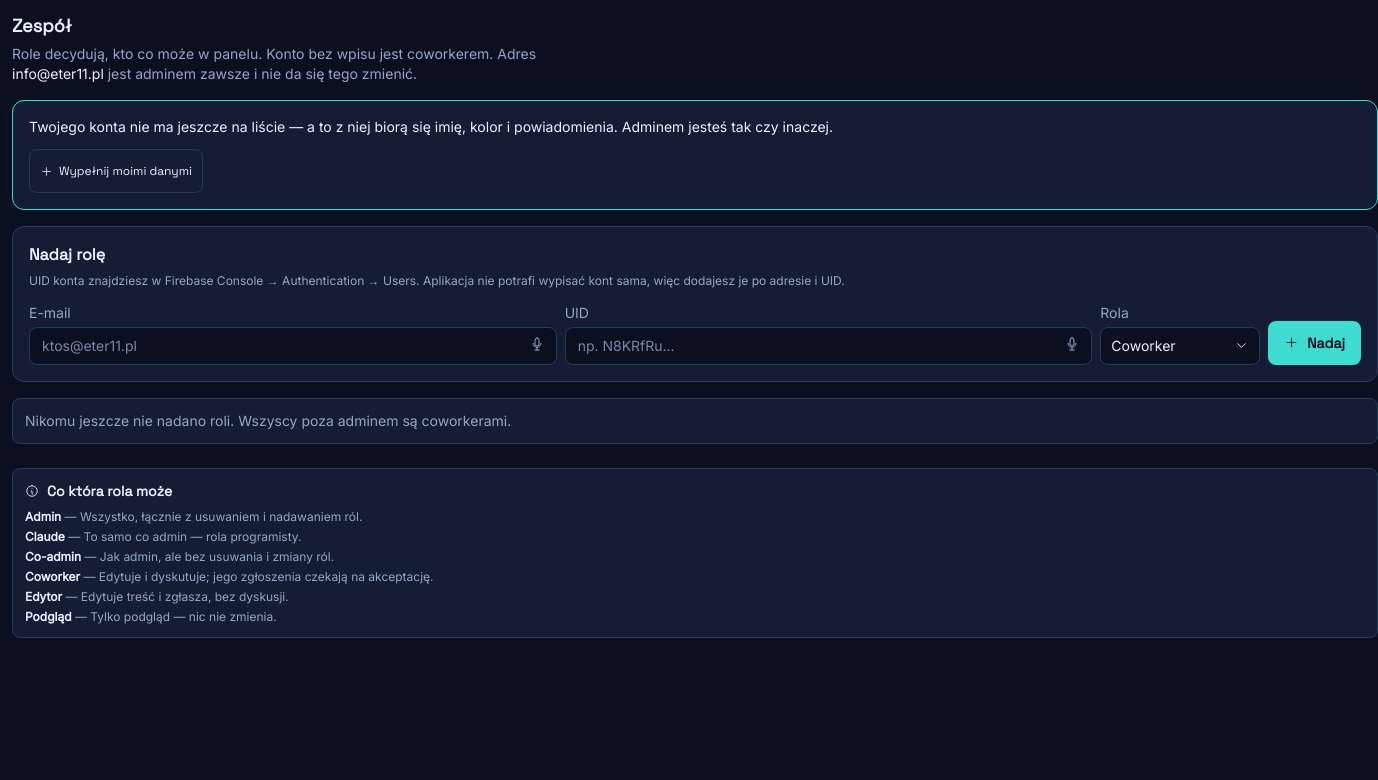
Test: TeamPanel — ochrona przed samo-wylogowaniem › nadanie roli innemu kontu nadal działa
Type "nowy@eter11.pl" into the field labelled "E-mail".
click(293, 346); type("nowy@eter11.pl")  # box [29,326,557,364]
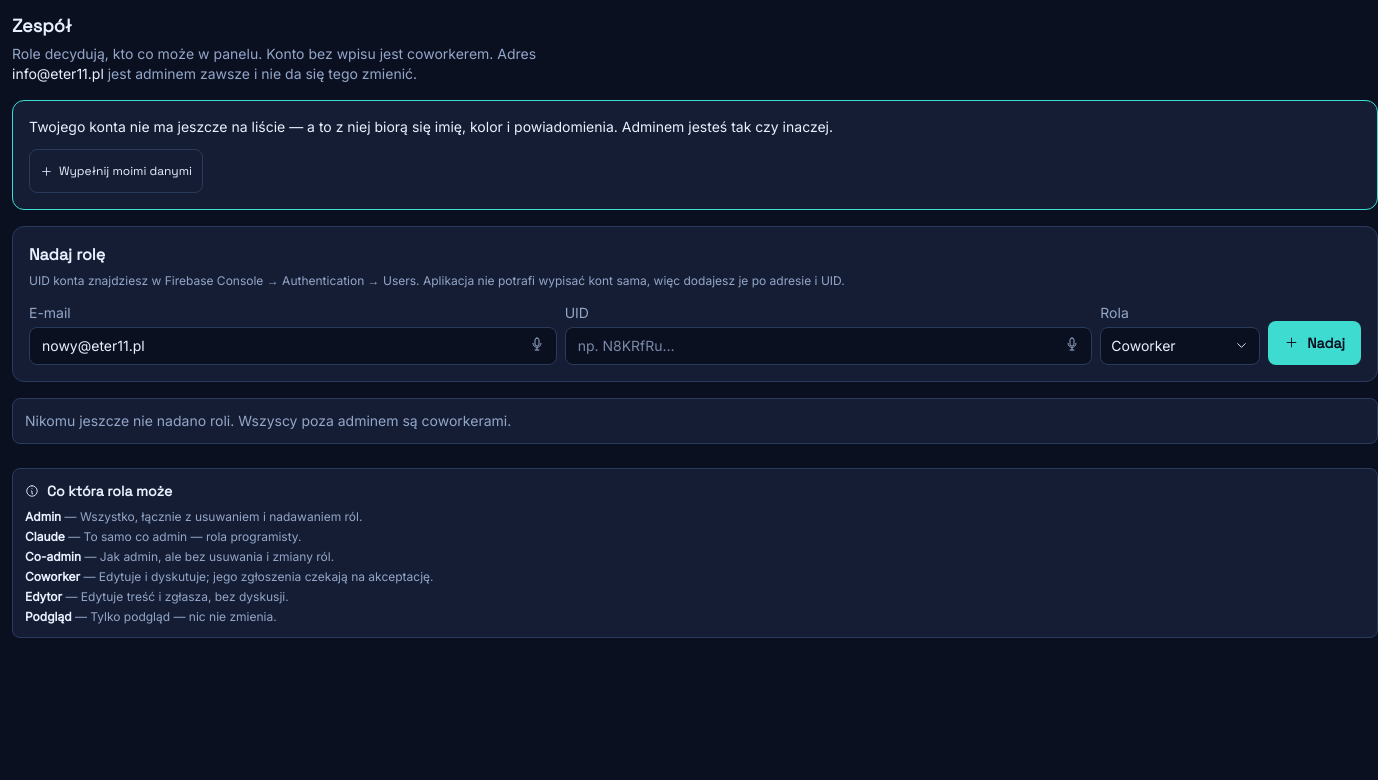
Type "nowy-uid" into the field labelled "UID".
click(829, 346); type("nowy-uid")  # box [565,326,1092,364]
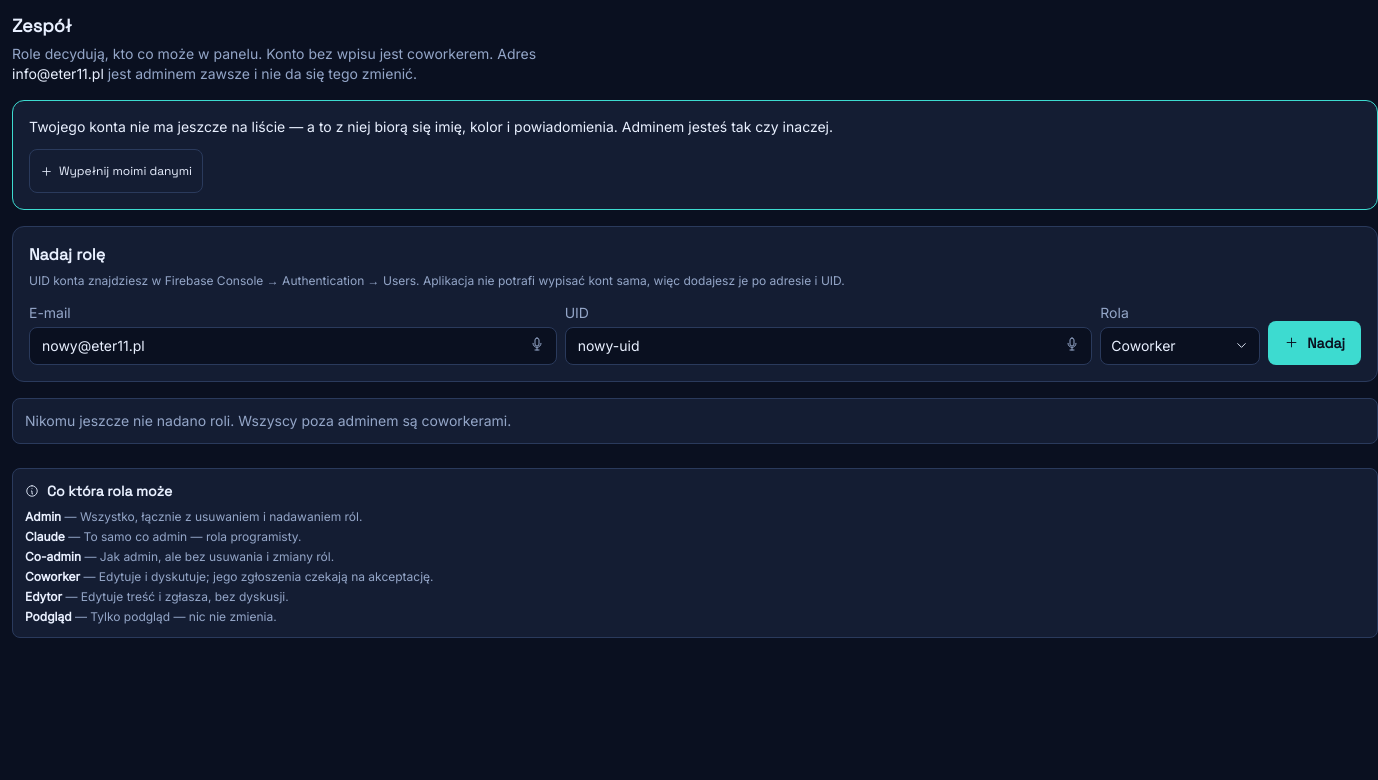
Click the button "Nadaj".
click(1315, 342)  # box [1268,320,1361,364]
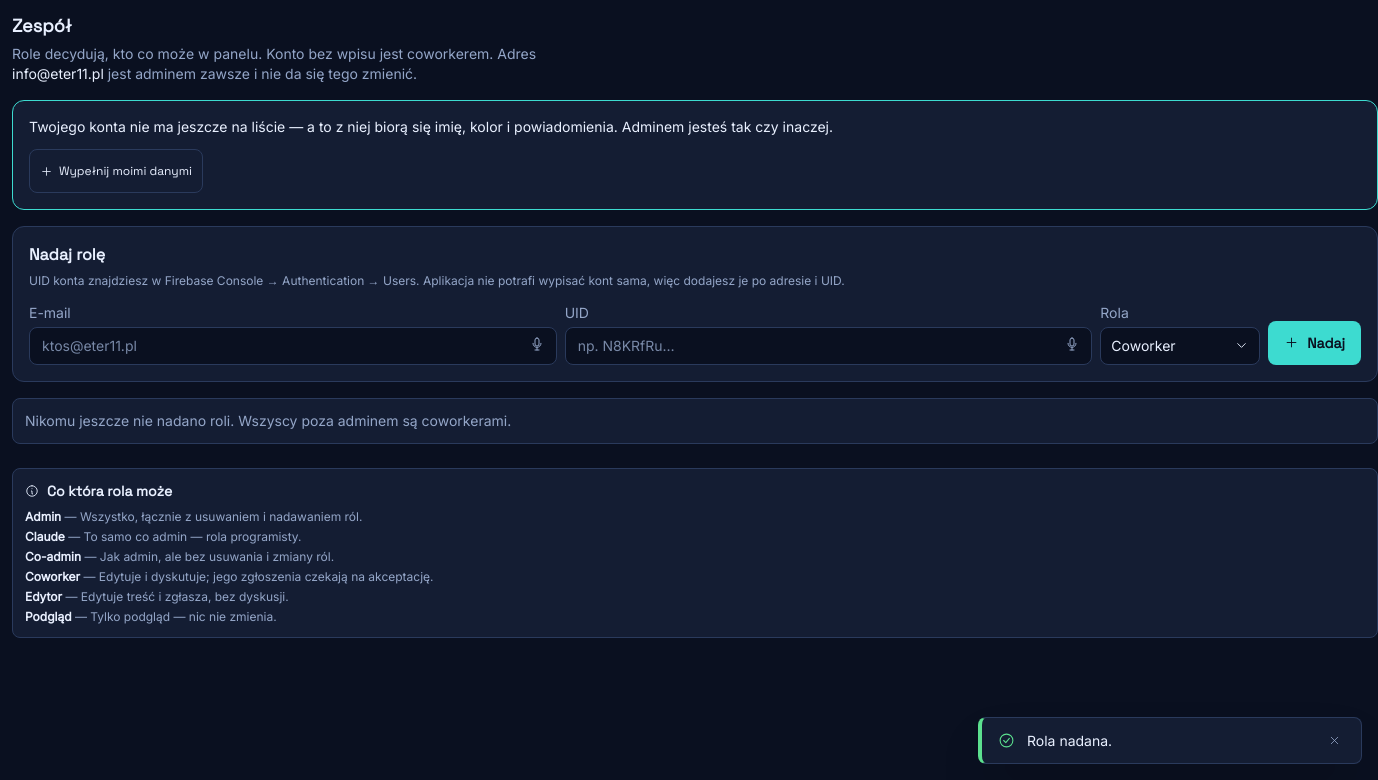
Now the text "Rola nadana." is shown, box [1027,732,1112,748]
